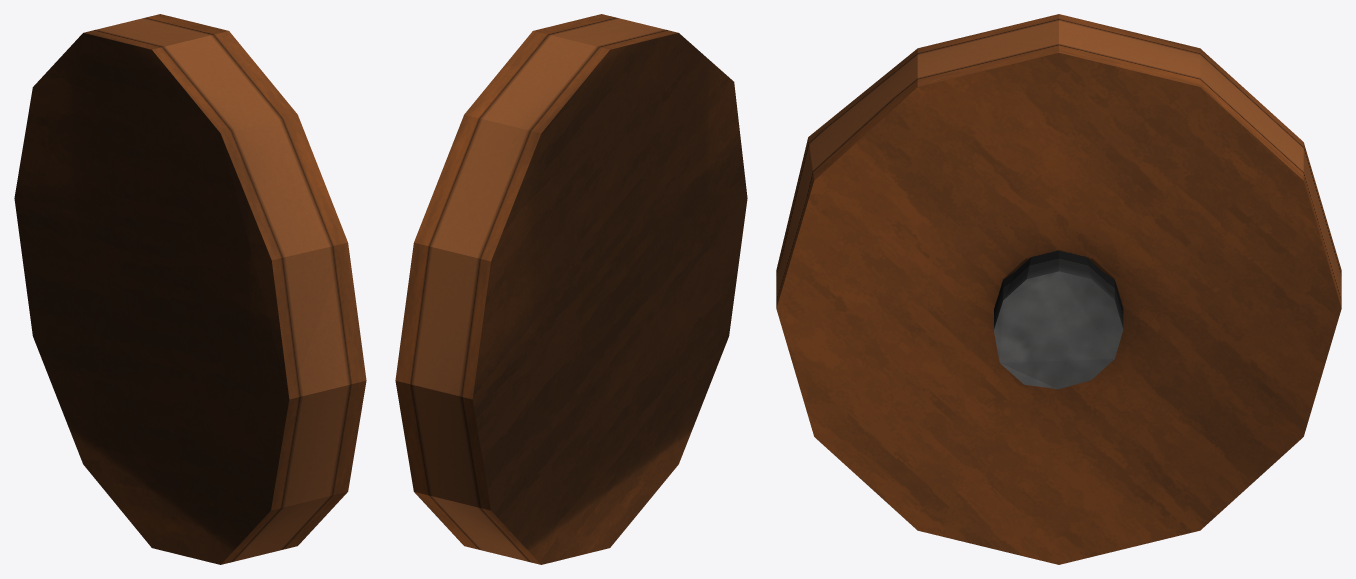
File: cannonWheel_v1.fbx
3 renders of one model, left to right at view 1: azimuth 30°, elevation 25°; view 2: azimuth 150°, elevation 25°; view 3: azimuth 270°, elevation 25°, orthographic. The views are drawn at different scales.
Visible parts, largest first — view 1: Cube.001; view 2: Cube.001; view 3: Cube.001.
Part boxes in pixels (box(x1,y1,x2,y2)): Cube.001: box(14, 14, 366, 564); Cube.001: box(395, 14, 747, 564); Cube.001: box(776, 14, 1341, 564).
Bounding box in the file's own units: 58.84 × 225 × 225.
